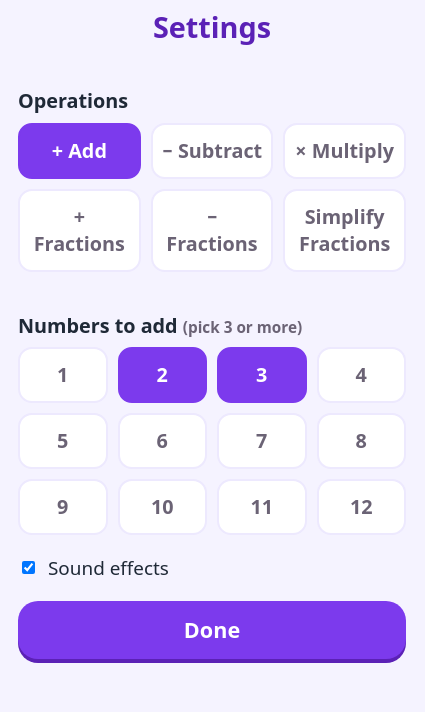
Test: SettingsPanel › clears the hint as soon as the selection becomes valid again
The width and height of the screenshot is (425, 712).
Click the button "Done": (212, 630) [18,601,406,659]
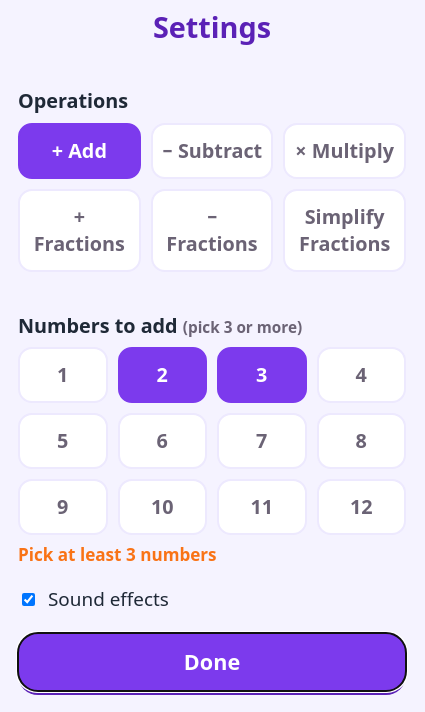
Expected: the text "Pick at least 3 numbers" is shown, [18,542,217,566]
Click the button "9": (63, 507) [18,479,108,534]
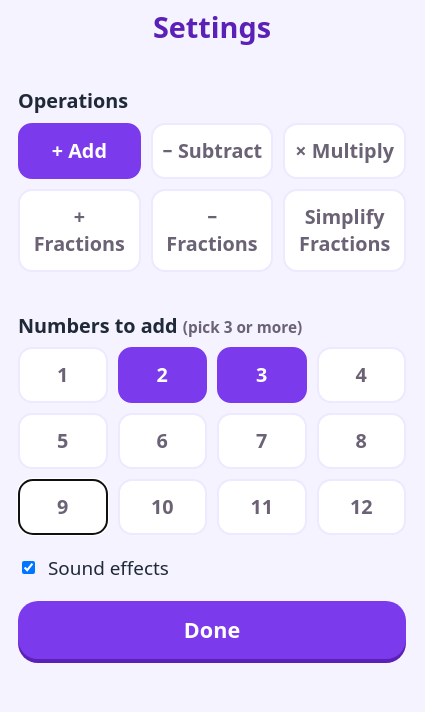
Expected: the text "Pick at least 3 numbers" is gone
